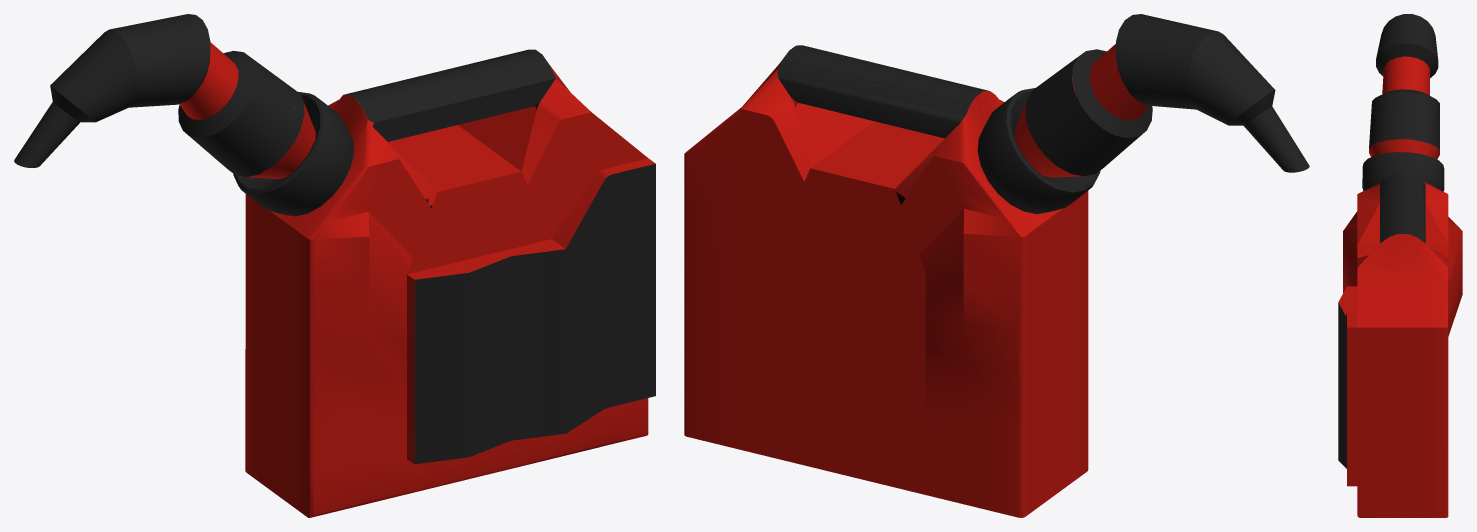
The model's file is Canister.fbx.
3 renders of one model, left to right at view 1: azimuth 30°, elevation 25°; view 2: azimuth 150°, elevation 25°; view 3: azimuth 270°, elevation 25°, orthographic. The views are drawn at different scales.
Parts seen in each view (by area): view 1: Canister_Baked; view 2: Canister_Baked; view 3: Canister_Baked.
Part boxes in pixels (left/top/right/bottom): Canister_Baked: left=14, top=14, right=655, bottom=517; Canister_Baked: left=684, top=14, right=1309, bottom=517; Canister_Baked: left=1338, top=14, right=1462, bottom=517.
Size of the model in its own units: 351 by 281 by 93.35.
1 material, 1 textured.
